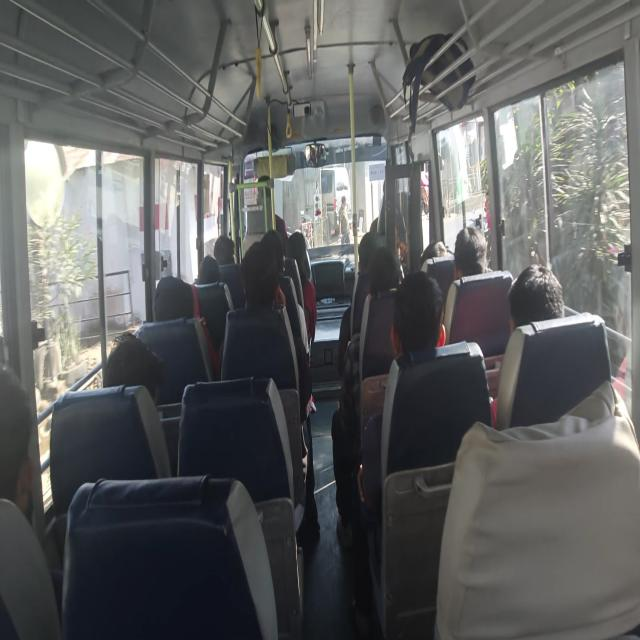person: (434, 380, 639, 638), (353, 270, 446, 634), (220, 239, 310, 536), (331, 246, 402, 548), (0, 364, 62, 638), (489, 263, 565, 425), (102, 331, 173, 475), (338, 231, 381, 374), (442, 225, 491, 344), (0, 365, 36, 522), (102, 330, 166, 406), (508, 263, 566, 334), (286, 231, 318, 345), (453, 226, 489, 280), (420, 240, 447, 270), (197, 254, 220, 285), (213, 234, 235, 264), (338, 195, 350, 244)
